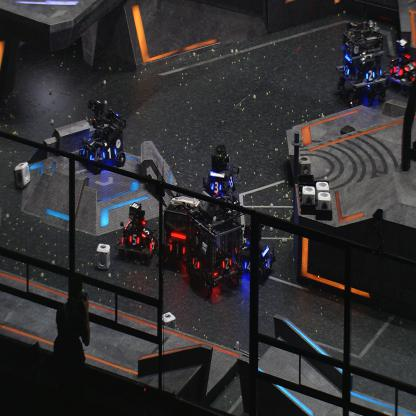car: (189, 193, 244, 296), (335, 19, 388, 108), (80, 99, 128, 175), (160, 191, 202, 265), (114, 202, 159, 264), (234, 223, 274, 282), (202, 144, 241, 199), (385, 36, 415, 98)
